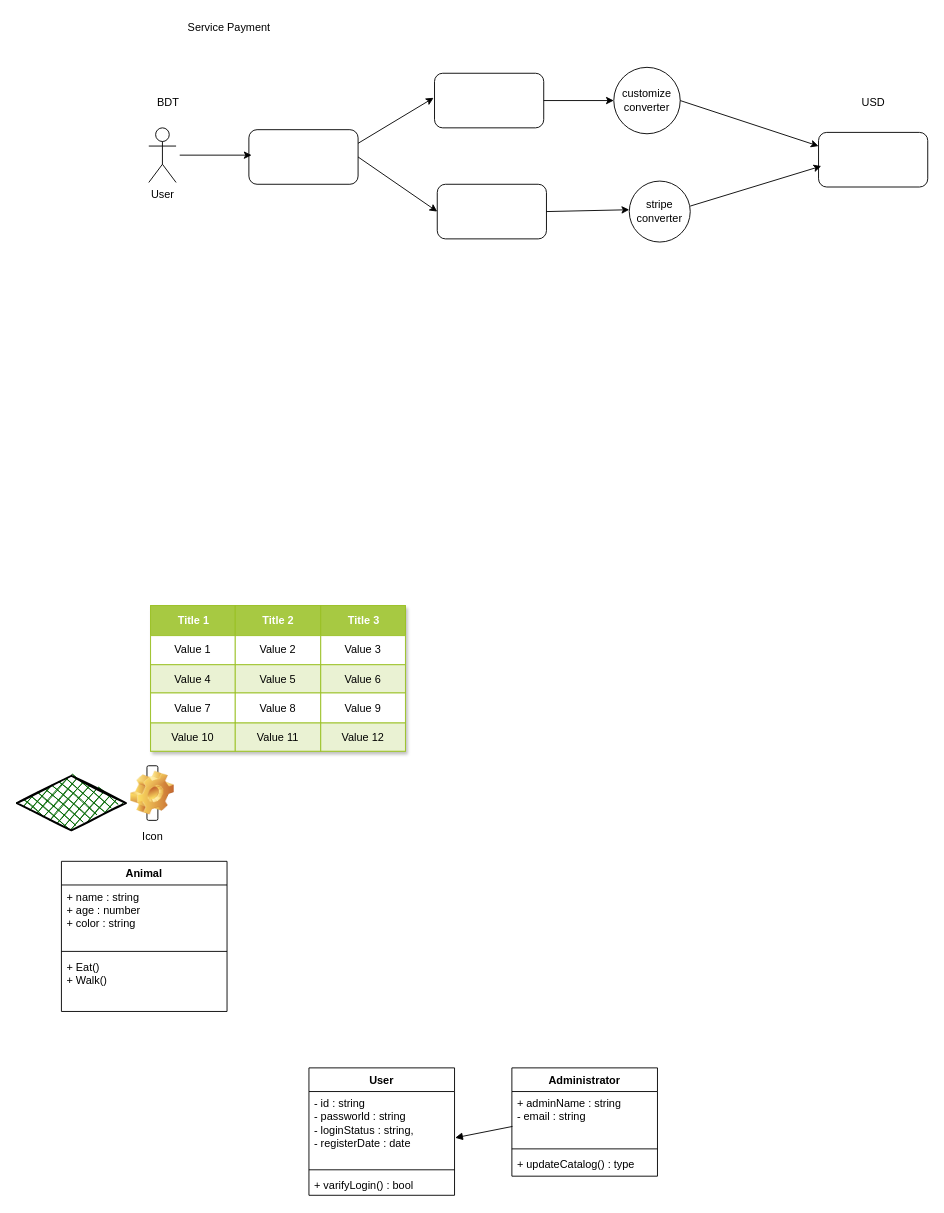
The diagram is 944 pixels wide and 1213 high, and some of its shapes have lost their labels. The centre of each missing label's shape, as x and y in pixels:
"Business Wellet" belongs at pixel 873 159.
"Card" belongs at pixel 491 211.
"Payment" belongs at pixel 303 156.
"wallet" belongs at pixel 489 100.
